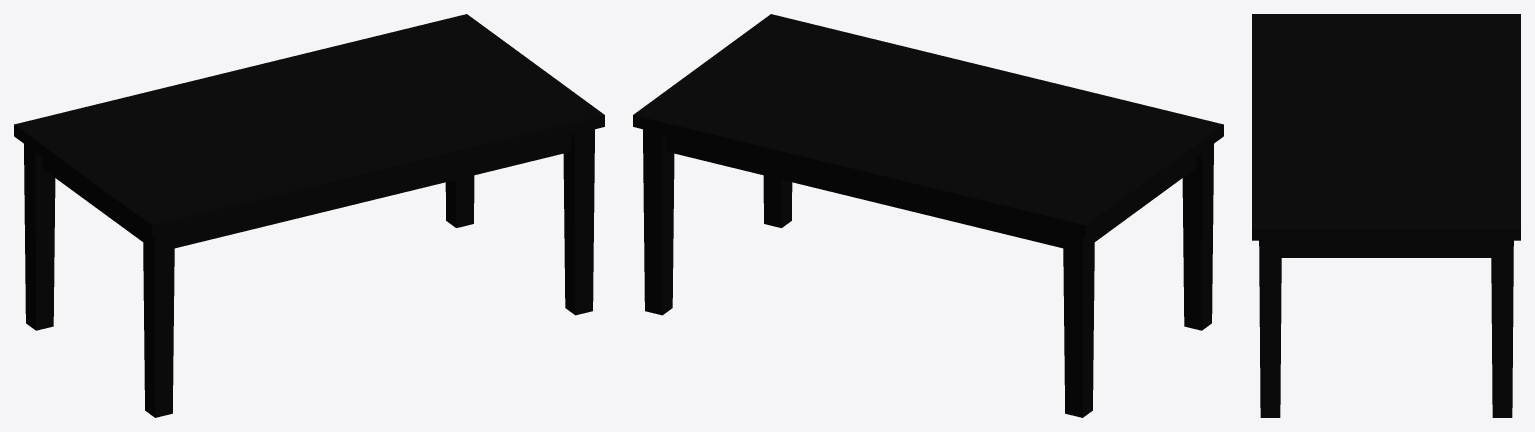
The model's file is SM_table_walnut.fbx.
3 renders of one model, left to right at view 1: azimuth 30°, elevation 25°; view 2: azimuth 150°, elevation 25°; view 3: azimuth 270°, elevation 25°, orthographic. The views are drawn at different scales.
Parts seen in each view (by area): view 1: table_walnut; view 2: table_walnut; view 3: table_walnut.
Part boxes in pixels (left/top/right/bottom): table_walnut: left=14, top=14, right=604, bottom=417; table_walnut: left=633, top=14, right=1223, bottom=417; table_walnut: left=1252, top=14, right=1520, bottom=417.
Bounding box in the file's own units: 1.8 × 0.75 × 0.95.
